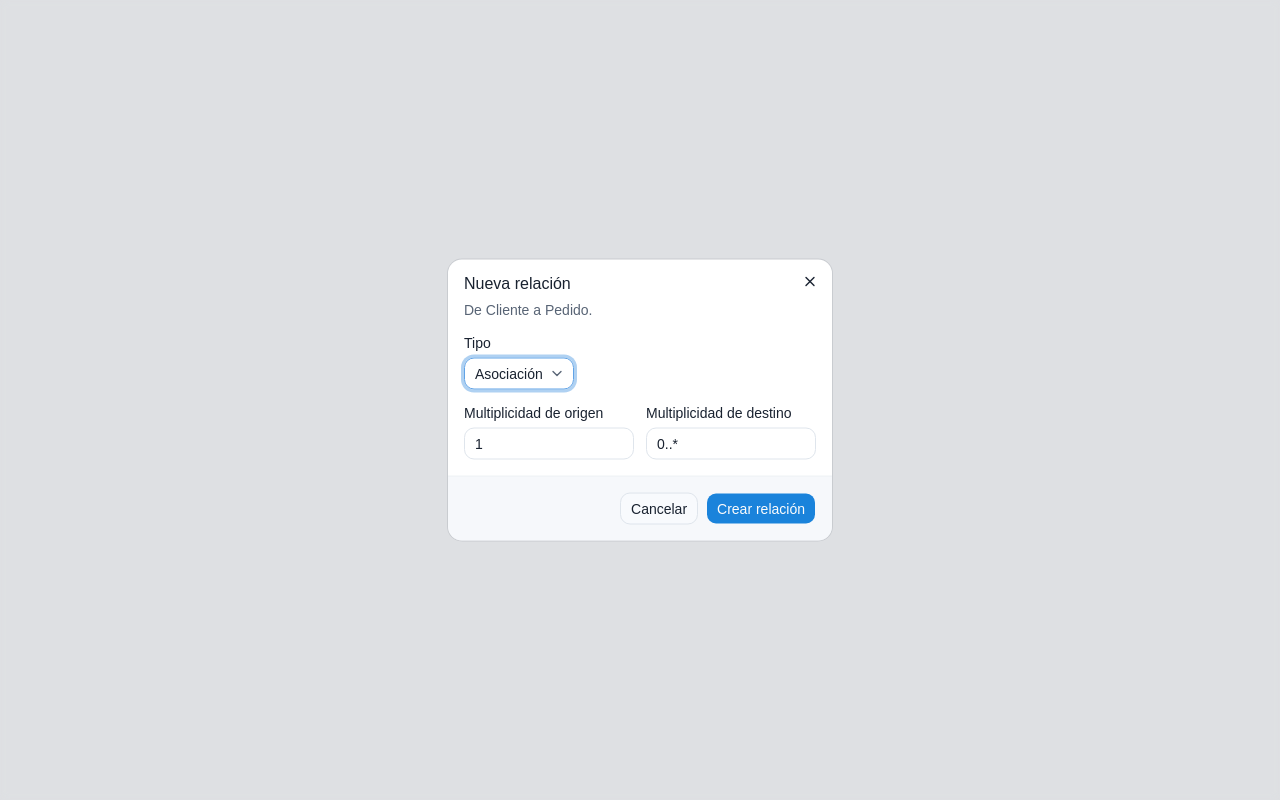
Test case: CU-09 Nueva relación al conectar dos clases › no deja crear con una multiplicidad mal escrita
Step 1. Type "varios" into the field labelled "Multiplicidad de destino" → (731, 444), box 646,428 -> 816,460
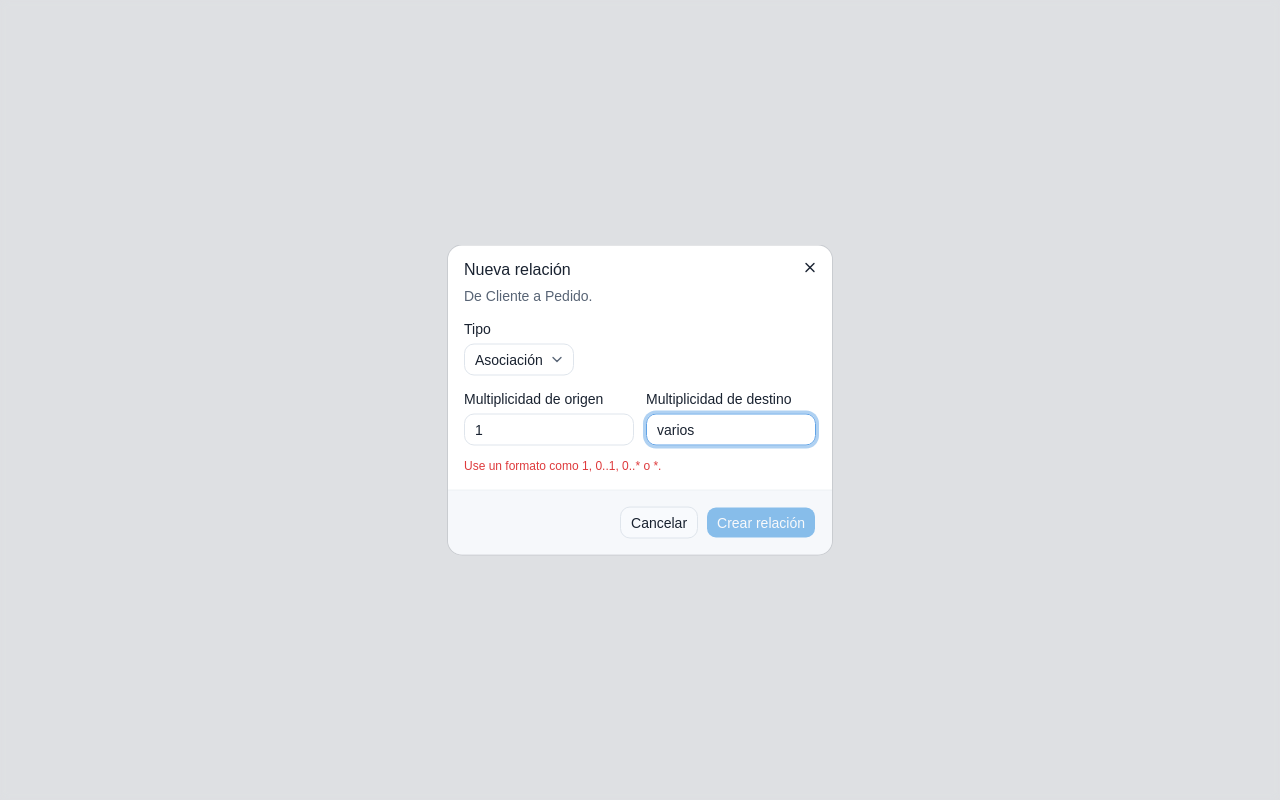
Expected: the button "Crear relación" is disabled, 706,506 -> 816,538
Expected: the text "Use un formato como 1, 0..1, 0..* o *." is shown, 464,458 -> 661,472
